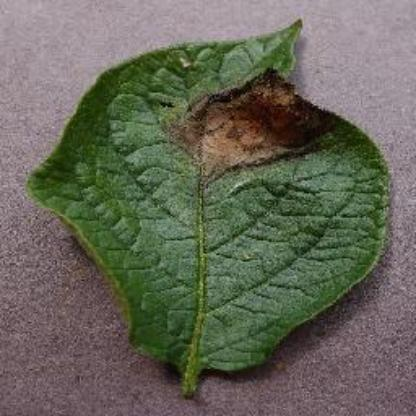Late-Blight: (16, 27, 396, 362)
